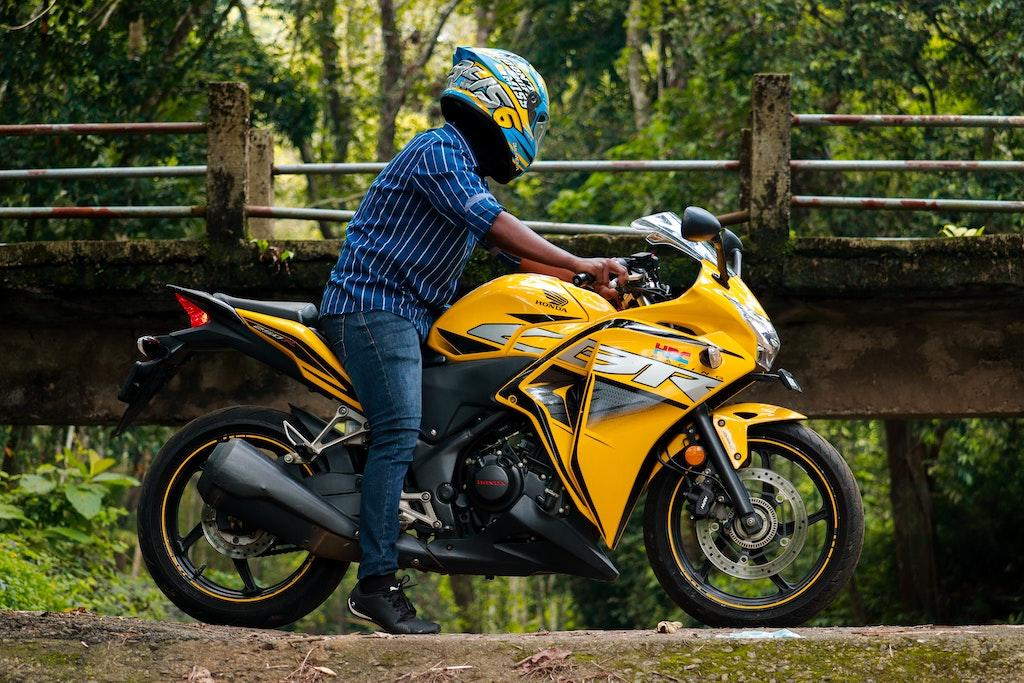helmet: (439, 45, 551, 185)
